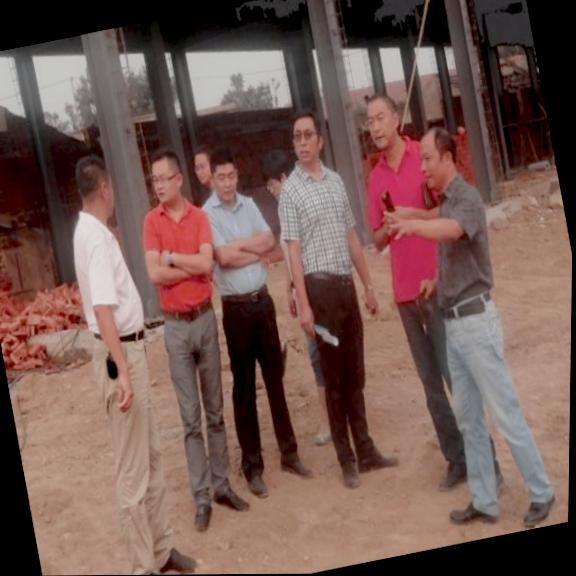no_safety_vest: (349, 135, 451, 309), (267, 152, 370, 299), (412, 168, 504, 318), (59, 200, 152, 348), (131, 193, 228, 326), (197, 184, 289, 309)
